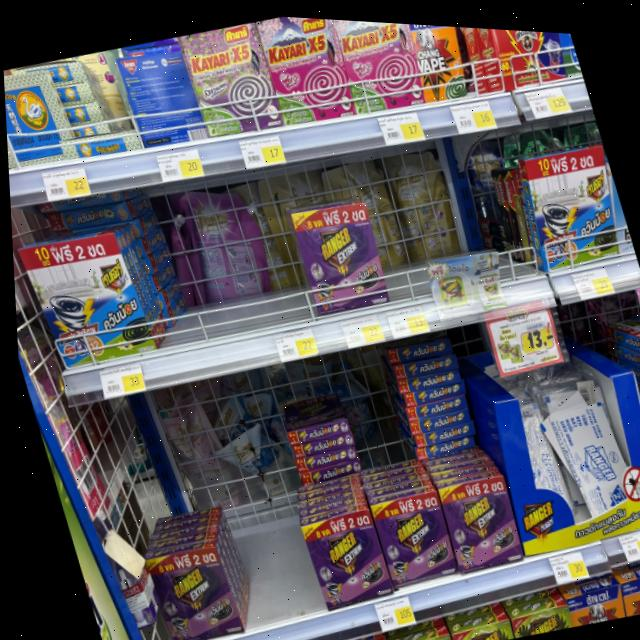empty_shelf: (128, 172, 316, 347), (353, 136, 537, 300), (221, 490, 325, 630)
